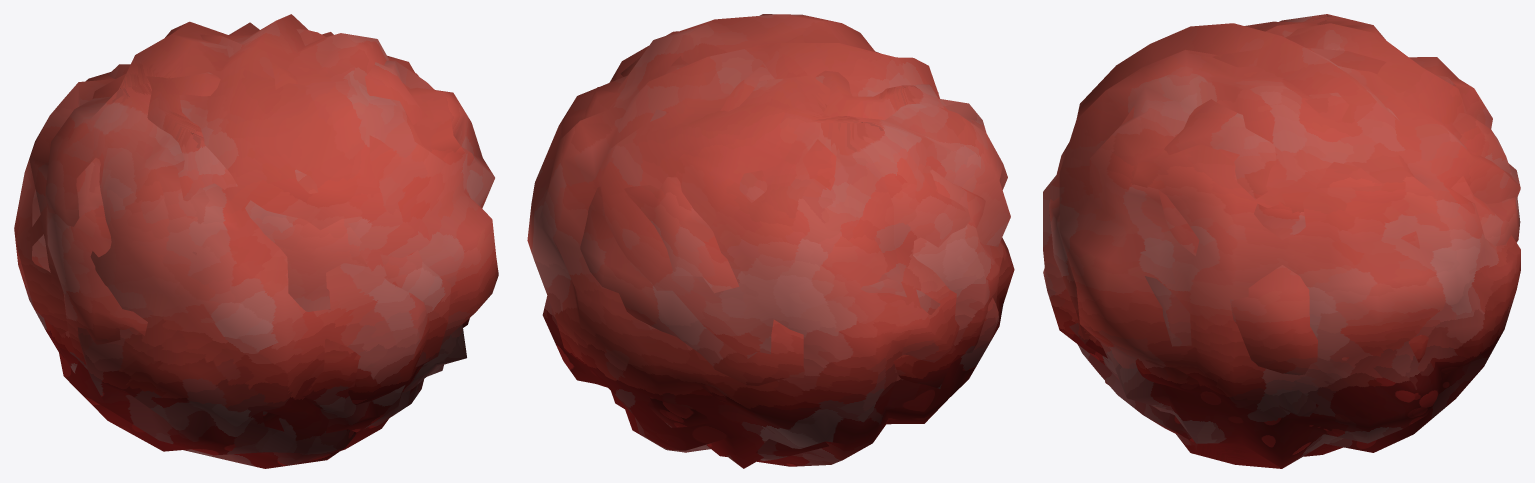
File: vomit.fbx
The picture shows the model from 3 angles, left to right: view 1: azimuth 30°, elevation 25°; view 2: azimuth 150°, elevation 25°; view 3: azimuth 270°, elevation 25°; orthographic projection.
Visible parts, largest first — view 1: titanvomit; view 2: titanvomit; view 3: titanvomit.
Part boxes in pixels (x1,y1,x2,y2): titanvomit: [14, 14, 498, 468]; titanvomit: [527, 14, 1014, 468]; titanvomit: [1043, 14, 1520, 468].
Size of the model in its own units: 180 by 168 by 181.
